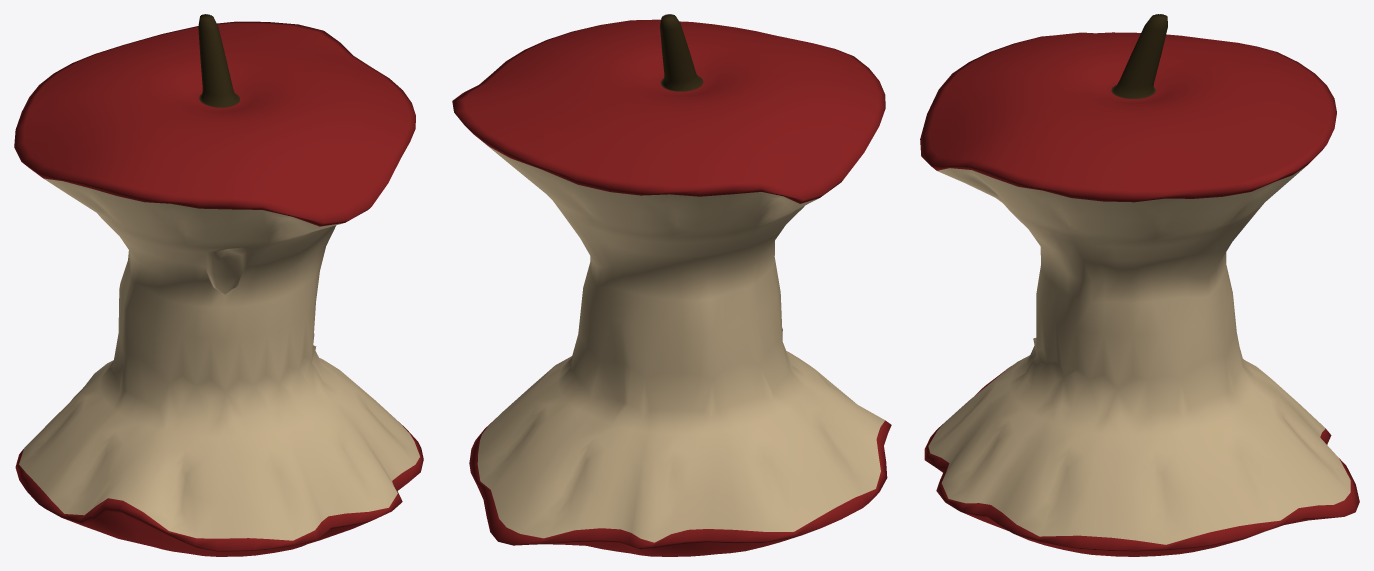
Rendered from apple_with_no_labels.fbx.
3 renders of one model, left to right at view 1: azimuth 30°, elevation 25°; view 2: azimuth 150°, elevation 25°; view 3: azimuth 270°, elevation 25°, orthographic. The views are drawn at different scales.
Parts seen in each view (by area): view 1: pCylinder1; view 2: pCylinder1; view 3: pCylinder1.
Part boxes in pixels (x1=…): pCylinder1: x1=14, y1=14, x2=423, y2=556; pCylinder1: x1=452, y1=14, x2=891, y2=556; pCylinder1: x1=920, y1=14, x2=1359, y2=556.
Bounding box in the file's own units: 1.71 × 2.23 × 1.8.
